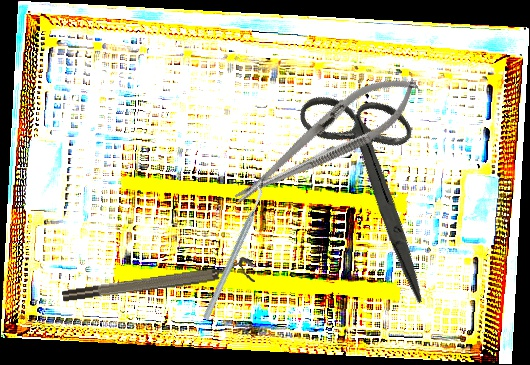Chopper: (162, 183, 303, 321)
Fixation Ring: (60, 255, 256, 306)
Iris Scissors: (248, 63, 505, 305)
Needle Holder: (221, 59, 430, 221)
